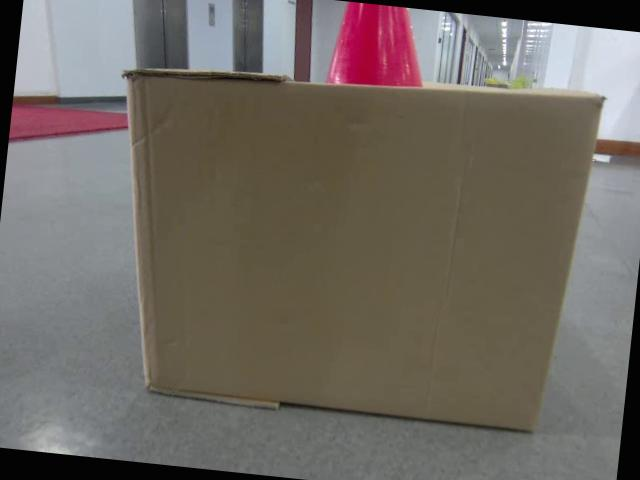red_barrel: (323, 0, 433, 94)
